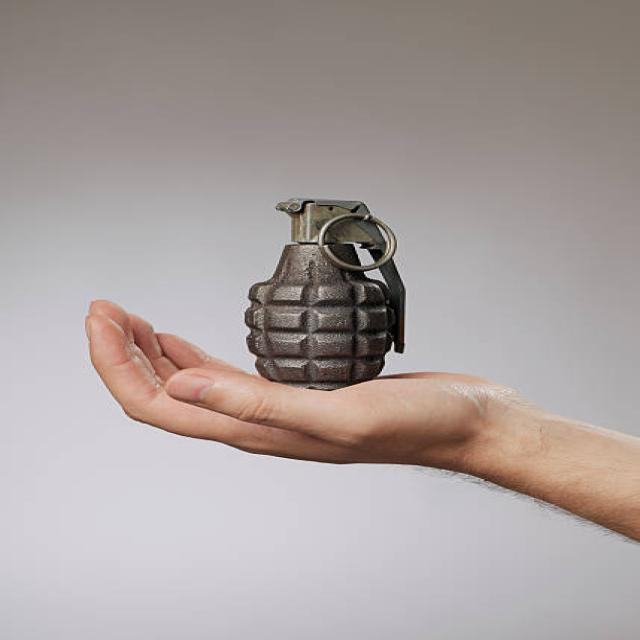grenade: (234, 194, 424, 390)
